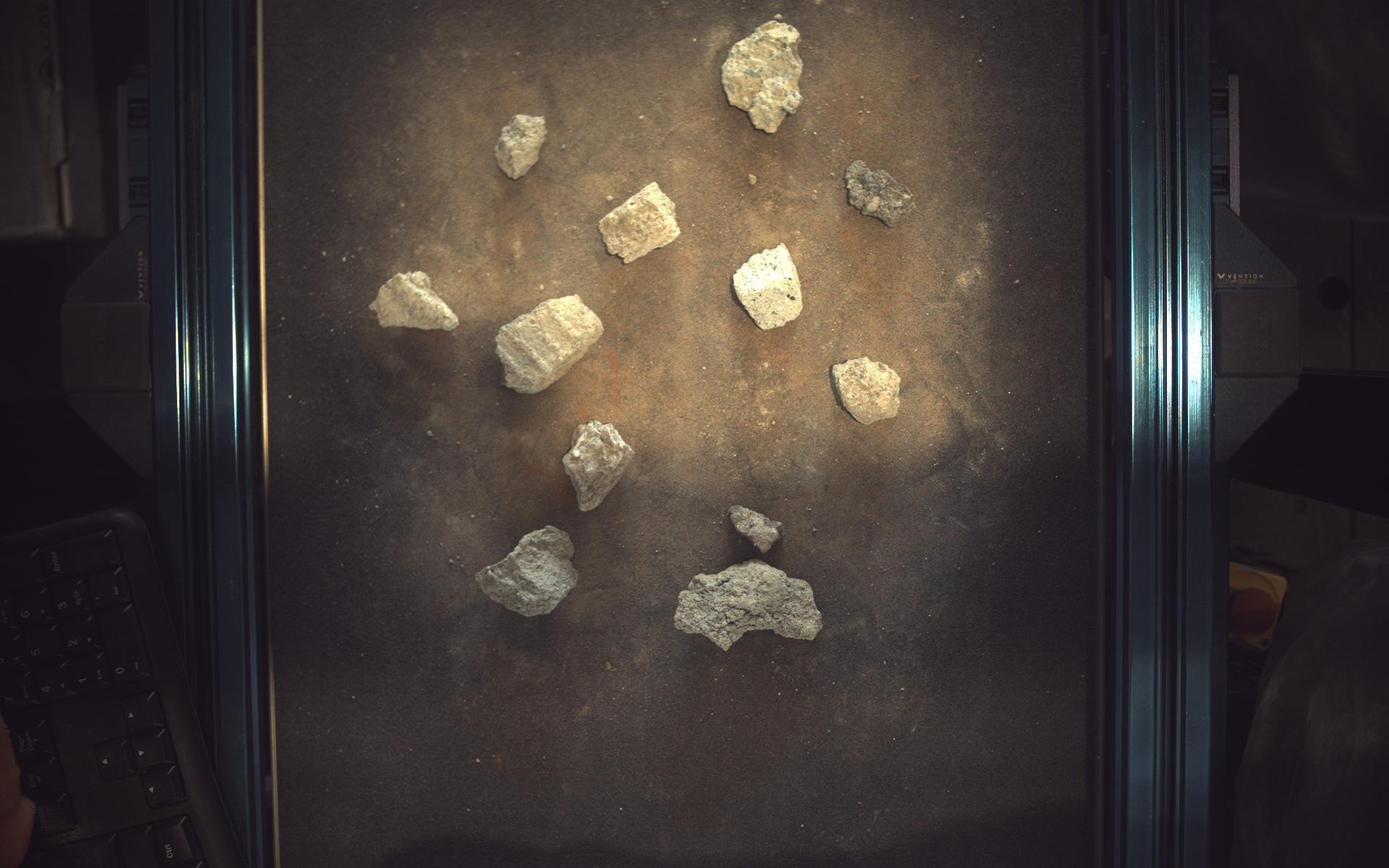concrete: (675, 561, 824, 652), (496, 294, 604, 393), (475, 526, 579, 618), (723, 15, 804, 132), (599, 181, 681, 263), (563, 420, 635, 512), (734, 243, 804, 330), (369, 271, 458, 331), (833, 357, 901, 425), (846, 160, 916, 226), (495, 114, 547, 179), (729, 506, 784, 553)
